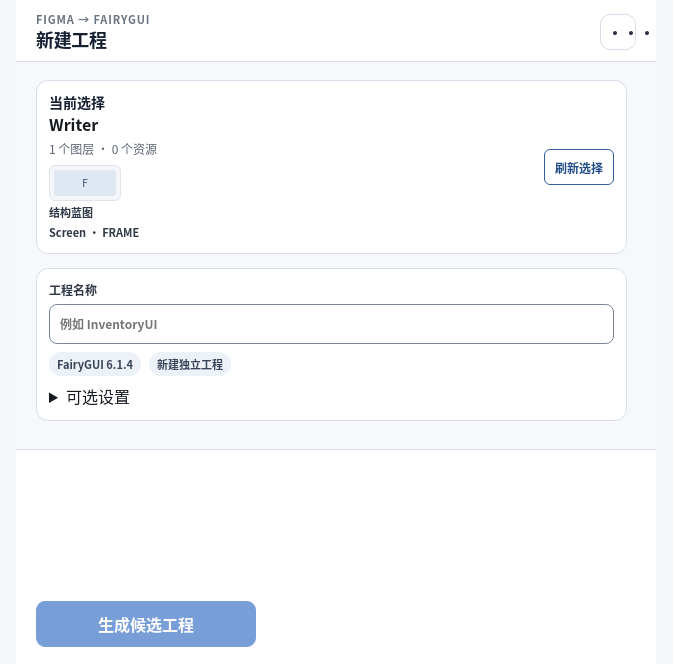
Test: NewProjectWriterPanel › shows the approved single-screen inputs without legacy template/version controls
expect the text "1 个图层 · 0 个资源" is shown: met, box [49,140,157,157]
expect the text "Screen · FRAME" is shown: met, box [49,224,139,240]
Click the button named "更多操作" at (618, 32), box [600,14,636,50]
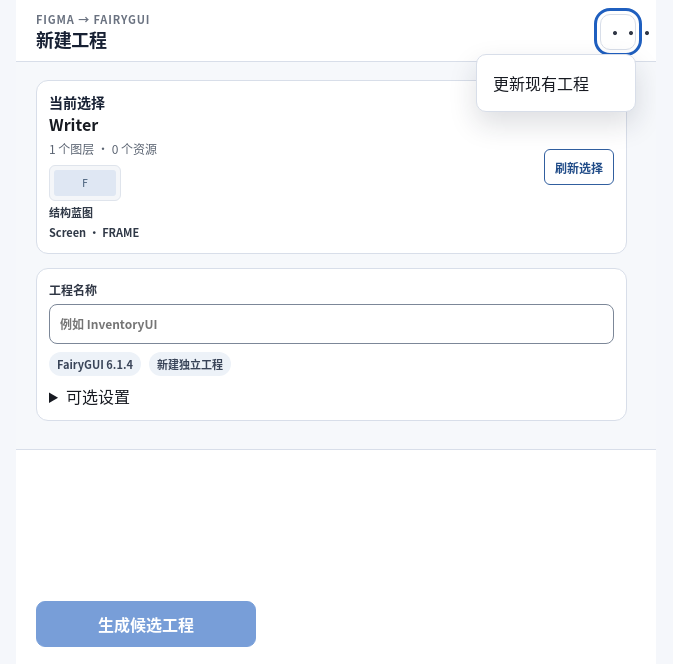
expect the menu item "更新现有工程" is shown: met, box [483,61,629,105]
